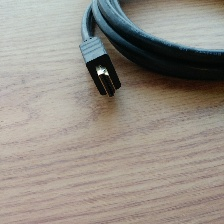hdmi_male: (36, 16, 157, 114)
